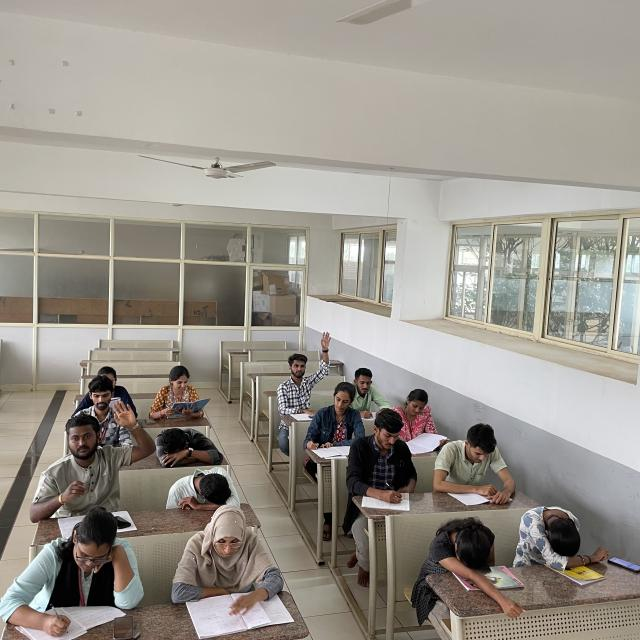Hand Rising: (38, 400, 141, 501), (278, 324, 331, 406)
Reading: (170, 504, 284, 613), (434, 417, 524, 508), (143, 354, 213, 421), (394, 385, 459, 451)
Sleeping: (412, 507, 508, 597), (512, 495, 596, 563), (152, 463, 250, 518), (148, 417, 235, 466)
Writing: (4, 510, 135, 636), (342, 402, 426, 515), (303, 382, 364, 458)
